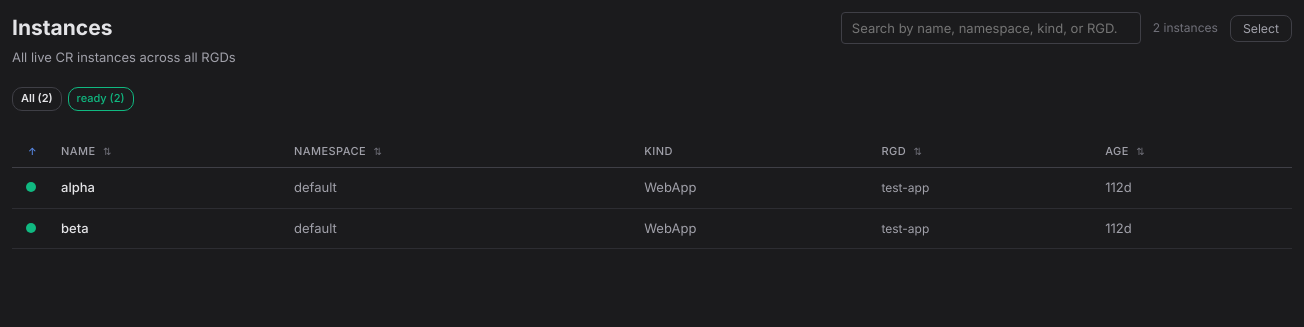
Test case: InstancesPage bulk operations (spec issue-536) › selects and deselects individual rows
Click the button with test id "instances-select-btn" at (1261, 28), box [1230,14,1292,42]
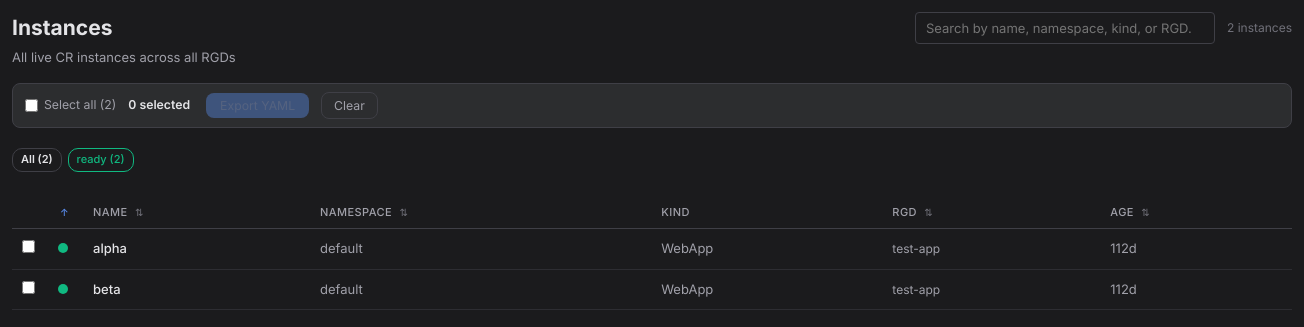
Click the checkbox with test id "instances-row-check-alpha" at (28, 247), box [22,240,34,253]
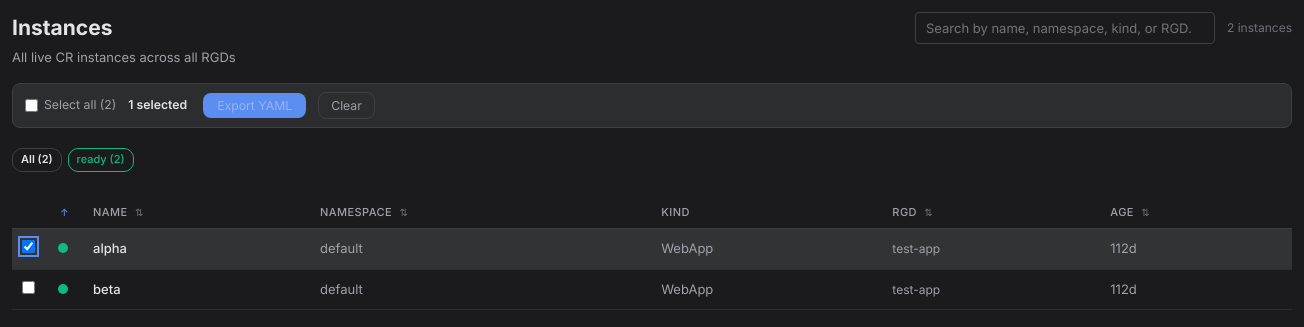
Now the text with test id "instances-selection-count" reads "1 selected", box [128,96,187,115]
Click the checkbox with test id "instances-row-check-alpha" at (28, 247), box [22,240,34,253]
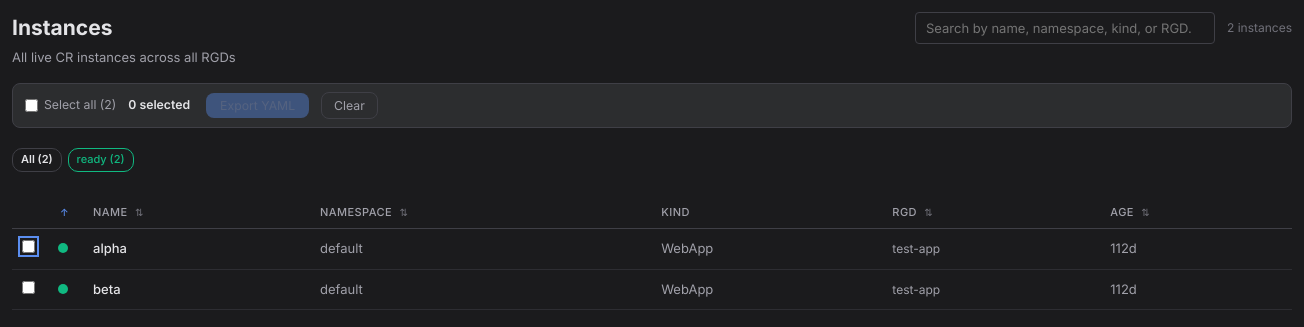
Now the text with test id "instances-selection-count" reads "0 selected", box [128,96,190,115]
